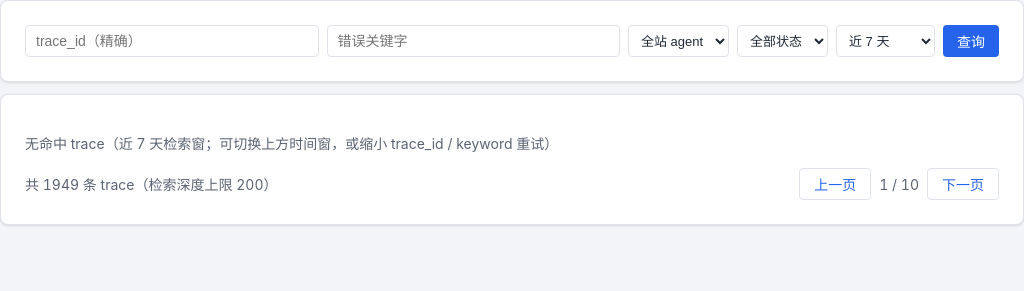
Test: 状态控件（2026-09-20，P1-21 改判后） › 选「仅错误」→ 重发请求，且 status=error 真的传给了 api 层
Select "仅错误" in the 2nd dropdown at (782, 41), box [737,25,828,57]
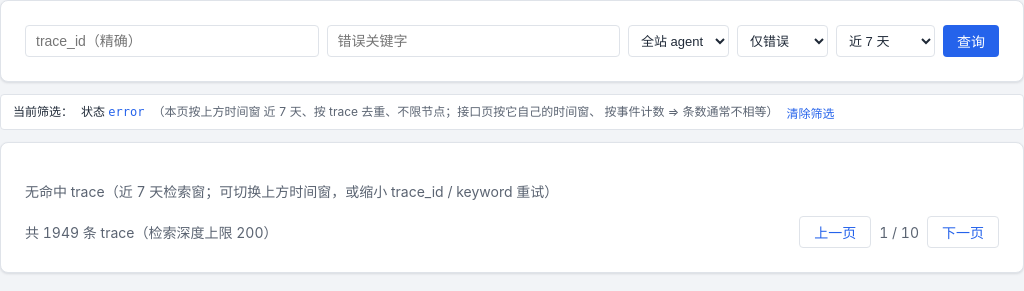
Check: the text "error" is shown, box [108,105,144,119]
